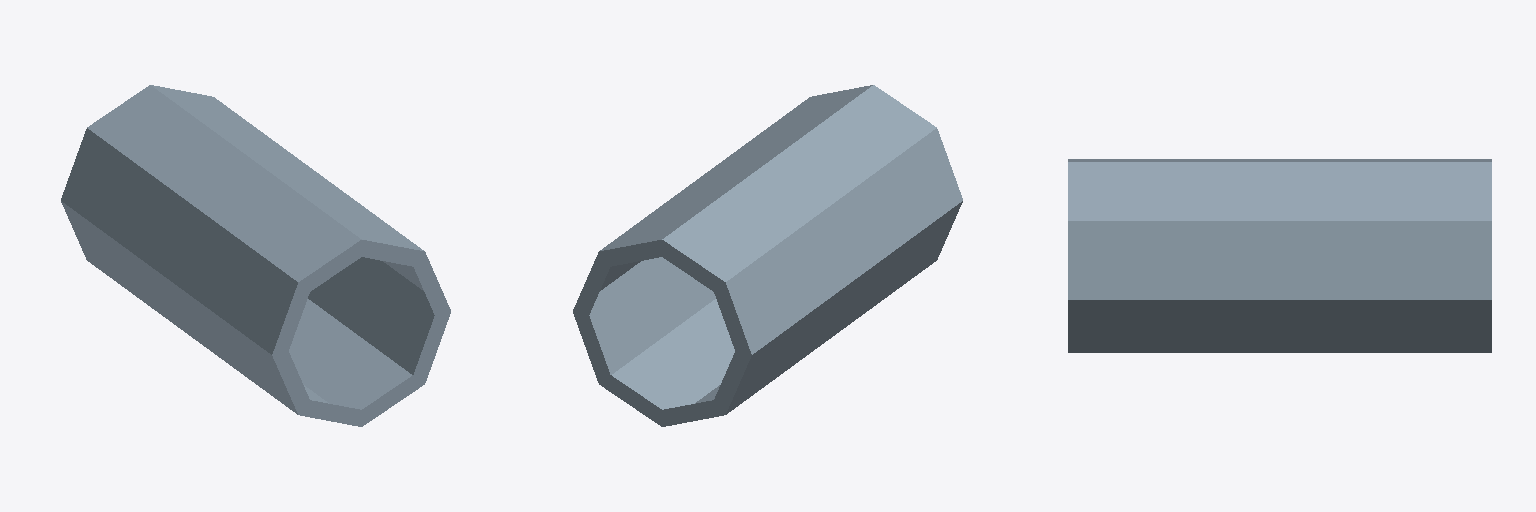
Rendered from pipeStraight.obj.
3 views of the same model, side by side, from view 1: azimuth 30°, elevation 25°; view 2: azimuth 150°, elevation 25°; view 3: azimuth 270°, elevation 25° (orthographic).
Parts seen in each view (by area): view 1: pipeStraight; view 2: pipeStraight; view 3: pipeStraight.
Part boxes in pixels (x1,y1,x2,y2): pipeStraight: (61,85,450,426); pipeStraight: (573,85,962,426); pipeStraight: (1068,159,1491,352).
Size of the model in its own units: 4.9 by 4.9 by 10.